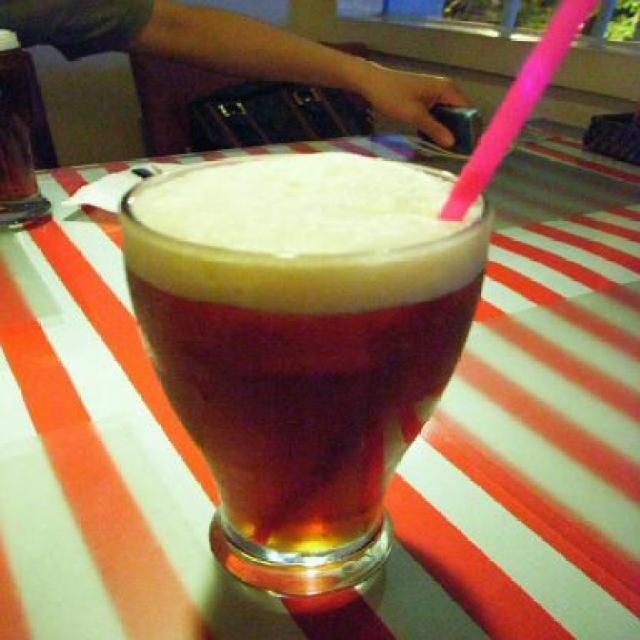Juice: (113, 133, 487, 602)
